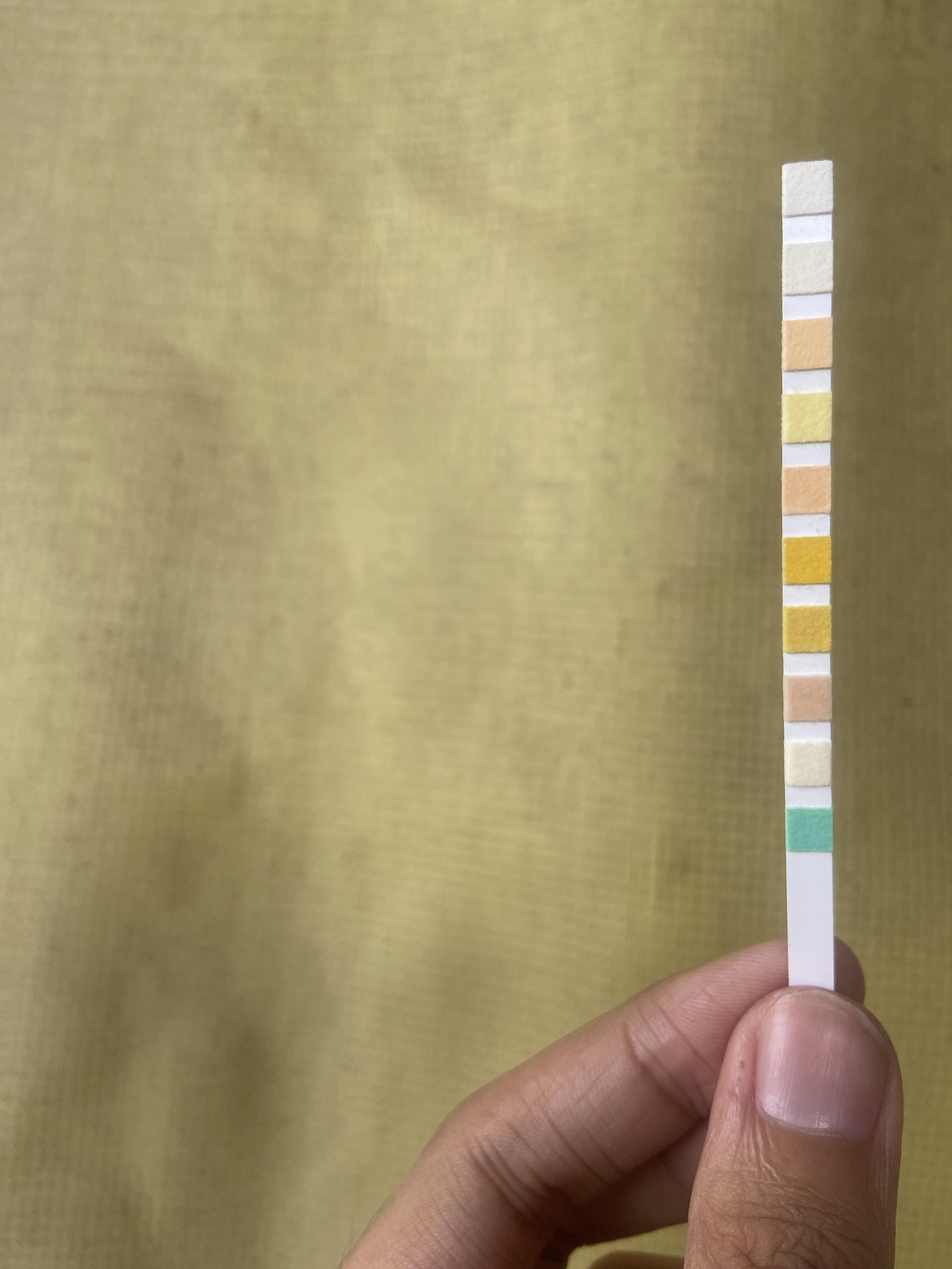Bilirubin: (787, 743, 830, 784)
Blood: (785, 539, 830, 581)
Glucose: (790, 810, 830, 850)
Ketone: (787, 679, 829, 718)
Leukocytes: (784, 167, 830, 211)
Nitrite: (786, 246, 830, 290)
Protein: (784, 396, 830, 439)
SpGravity: (787, 609, 830, 651)
Urobilinogen: (785, 324, 830, 366)
pH: (785, 469, 829, 511)
strip: (782, 159, 834, 975)
